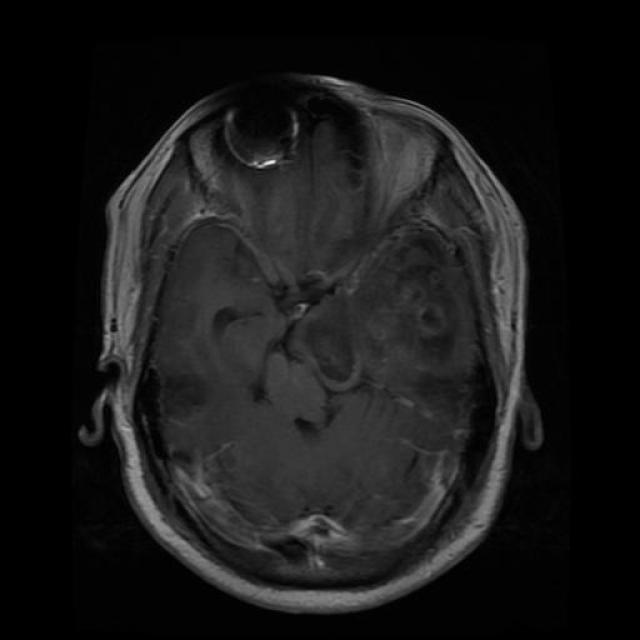brain_tumor: (419, 329, 481, 366)
